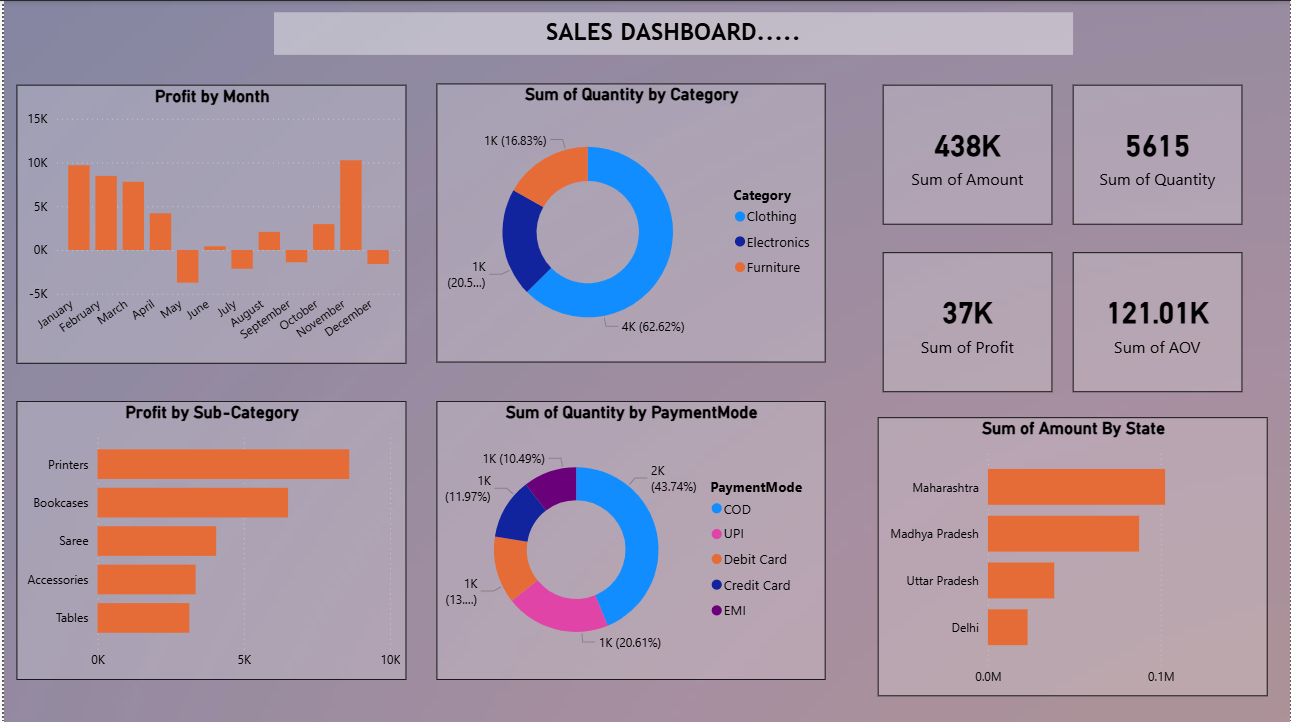

The page's visual inventory and layout, read from the dashboard file:
{"tool":"powerbi","page":{"name":"Page 1","canvas":[1280,720],"ordinal":0},"visuals":[{"type":"columnChart","title":"Profit by Month","fields":{"Category":["Orders.Order Date.Variation.Date Hierarchy.Month"],"Y":["Sum(Details.Profit)"]},"box":[12.4,83.3,388.1,277.4],"z":0},{"type":"barChart","title":"Profit by Sub-Category","fields":{"Y":["Sum(Details.Profit)"],"Category":["Details.Sub-Category"]},"box":[12.4,398.1,388.1,277.4],"z":1000},{"type":"donutChart","fields":{"Category":["Details.Category"],"Y":["Sum(Details.Quantity)"]},"box":[430.4,82.1,386.9,277.4],"z":2000},{"type":"donutChart","fields":{"Category":["Details.PaymentMode"],"Y":["Sum(Details.Quantity)"]},"box":[430.4,398.1,386.9,277.4],"z":3000},{"type":"card","fields":{"Values":["Sum(Details.Quantity)"]},"box":[1063.6,83.3,169.2,139.3],"z":3002},{"type":"card","fields":{"Values":["Sum(Details.Amount)"]},"box":[874.5,83.3,169.2,139.3],"z":3003},{"type":"card","fields":{"Values":["Sum(Details.Profit)"]},"box":[874.5,250,169.2,139.3],"z":3004},{"type":"card","fields":{"Values":["Sum(Details.AOV)"]},"box":[1063.6,250,169.2,139.3],"z":3005},{"type":"barChart","title":"Sum of Amount By State","fields":{"Y":["Sum(Details.Amount)"],"Category":["Orders.State"]},"box":[869.5,414.2,388.1,277.4],"z":3006},{"type":"textbox","box":[268.7,11.2,794.9,42.3],"z":3007}]}

Visuals, with their boxes in screenshot pixels (x1, y1, x2, y2), scaled from the page's 1280x720 canvas onto the 1291x722 screenshot:
"Profit by Month" columnChart: {"left": 13, "top": 84, "right": 404, "bottom": 362}
"Profit by Sub-Category" barChart: {"left": 13, "top": 399, "right": 404, "bottom": 677}
donutChart - Details.Category x Sum(Details.Quantity): {"left": 434, "top": 82, "right": 824, "bottom": 360}
donutChart - Details.PaymentMode x Sum(Details.Quantity): {"left": 434, "top": 399, "right": 824, "bottom": 677}
card - Sum(Details.Quantity): {"left": 1073, "top": 84, "right": 1243, "bottom": 223}
card - Sum(Details.Amount): {"left": 882, "top": 84, "right": 1053, "bottom": 223}
card - Sum(Details.Profit): {"left": 882, "top": 251, "right": 1053, "bottom": 390}
card - Sum(Details.AOV): {"left": 1073, "top": 251, "right": 1243, "bottom": 390}
"Sum of Amount By State" barChart: {"left": 877, "top": 415, "right": 1268, "bottom": 694}
textbox: {"left": 271, "top": 11, "right": 1073, "bottom": 54}
